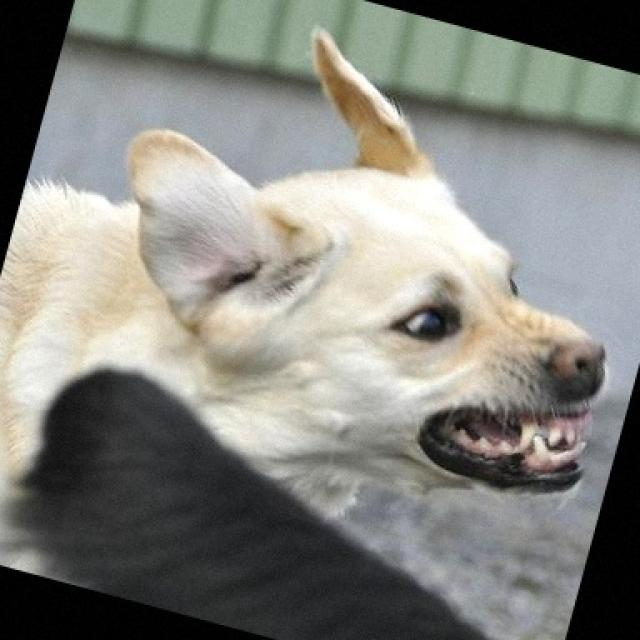angry: (103, 11, 605, 519)
